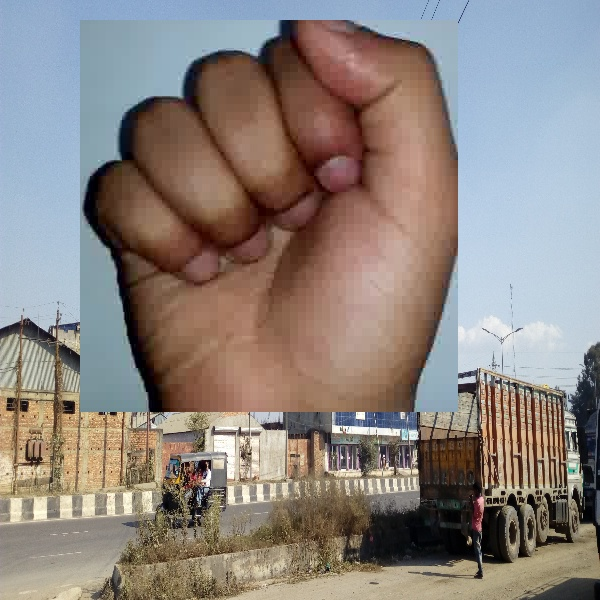A: (80, 20, 458, 412)
